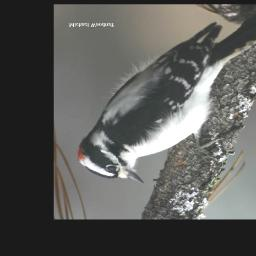Woodpecker: (77, 12, 256, 184)
